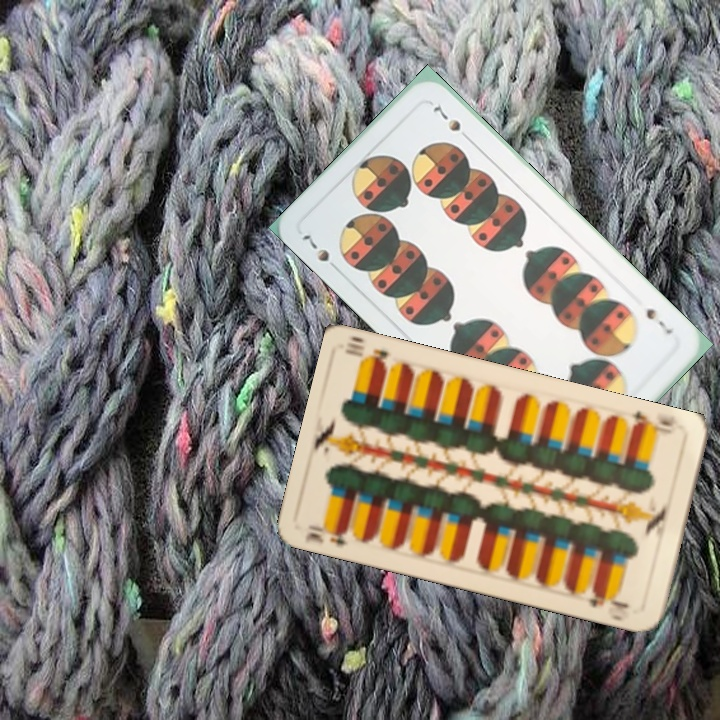E10: (628, 406, 686, 438), (301, 518, 350, 548)
S7: (298, 230, 343, 275), (641, 304, 676, 337)
